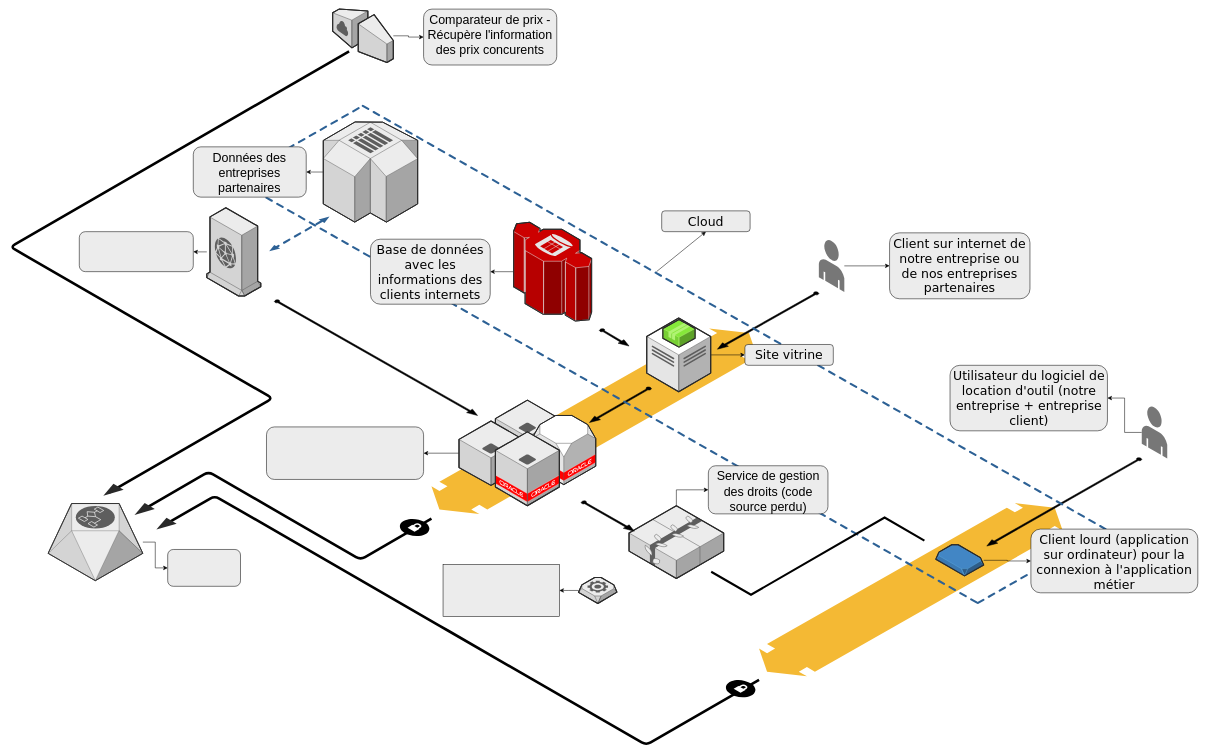
This 1207x756 diagram has some shape labels left out. The shapes that lost their labels are listed below. From the top down, each one's box as (x1, y1, x2, y2) in pixels, then its label:
(79, 231, 193, 272): Récupérateur des prix des partenaires
(266, 426, 424, 479): Application de location d'outil et base de données de l'application
(167, 549, 240, 586): Business intelligence
(443, 564, 559, 616): Machine virtuelle avec une utilité inconnue
